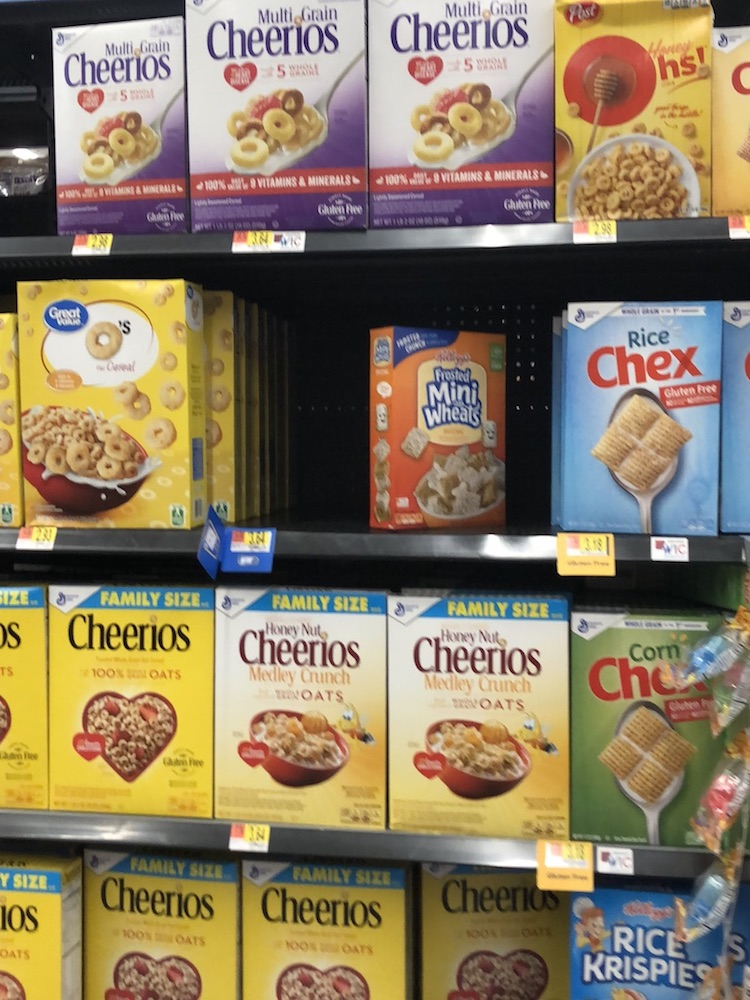Frosted Mini Original -9295869: (367, 331, 512, 529)
